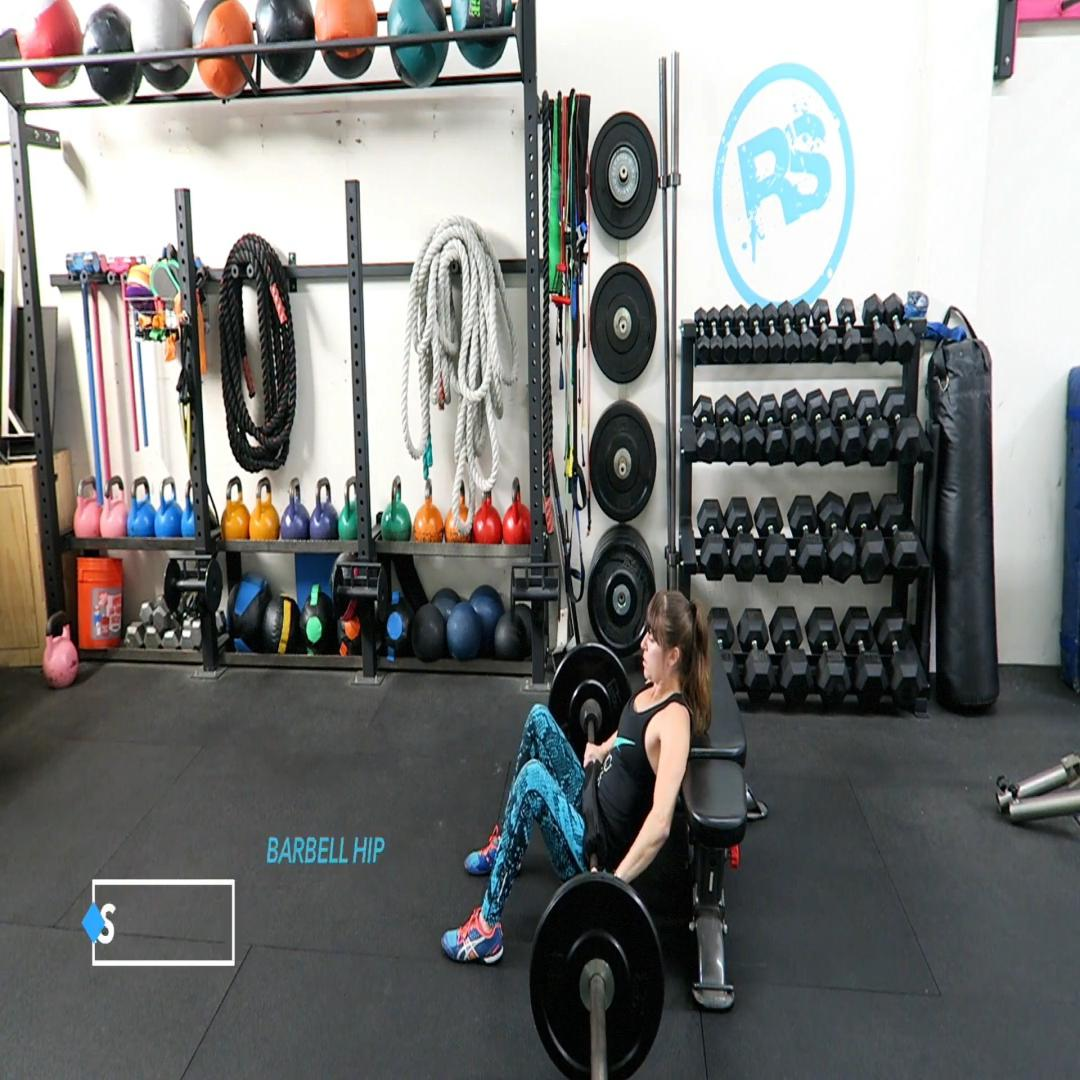Barbell: (529, 878, 665, 1079)
